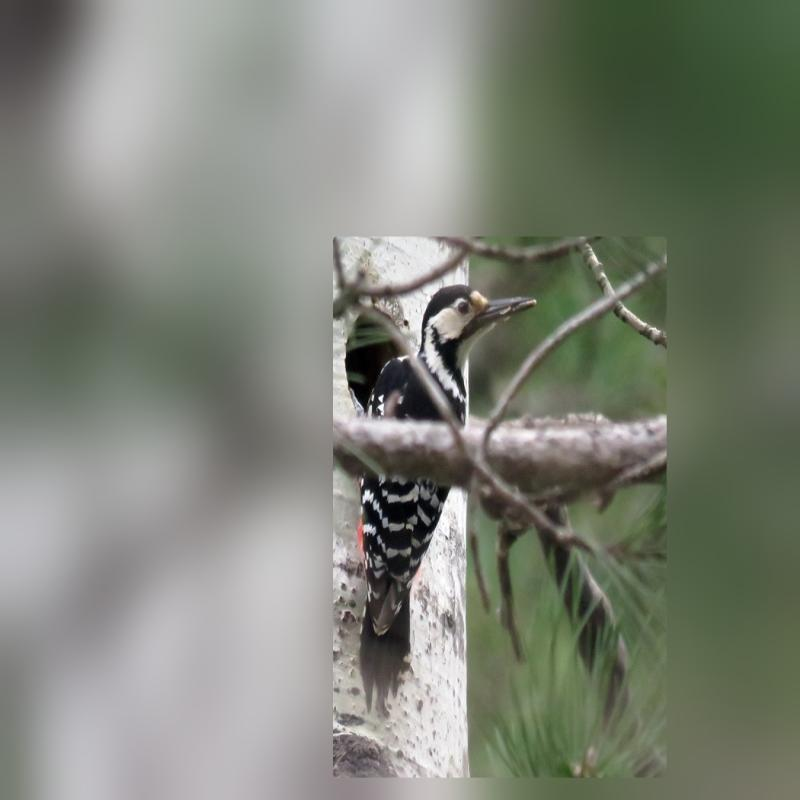white-backed woodpecker: (344, 270, 541, 652)
